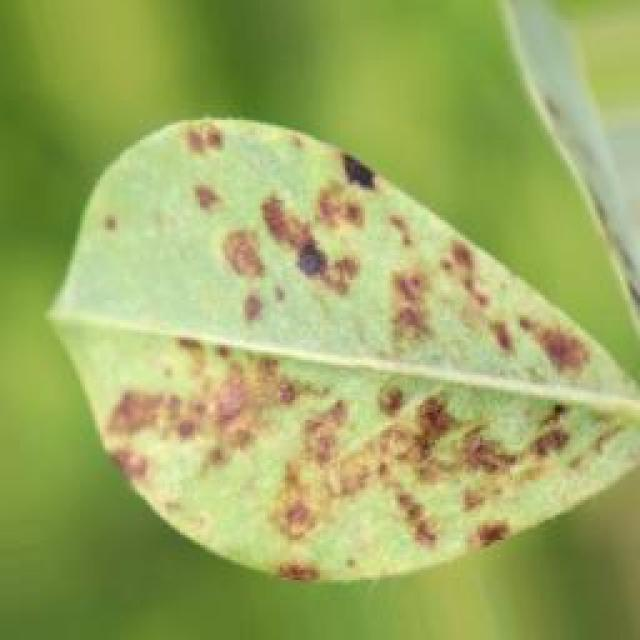Whitefly: (42, 89, 626, 556)
